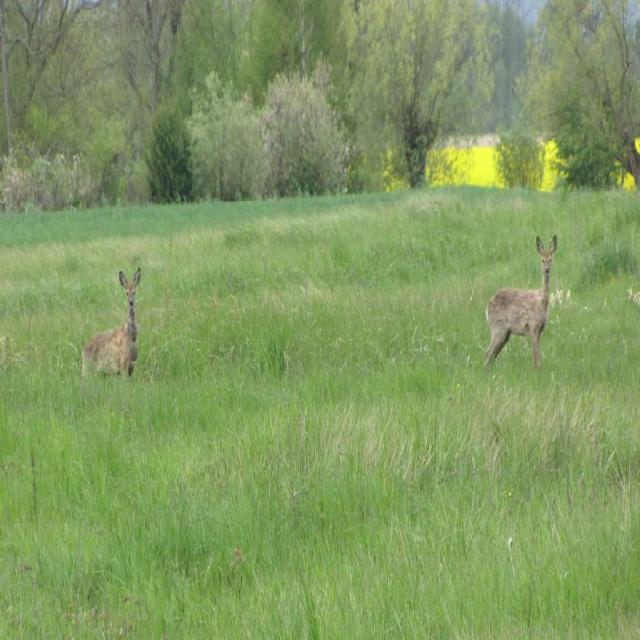Deer: (482, 234, 557, 372), (82, 266, 141, 376)
